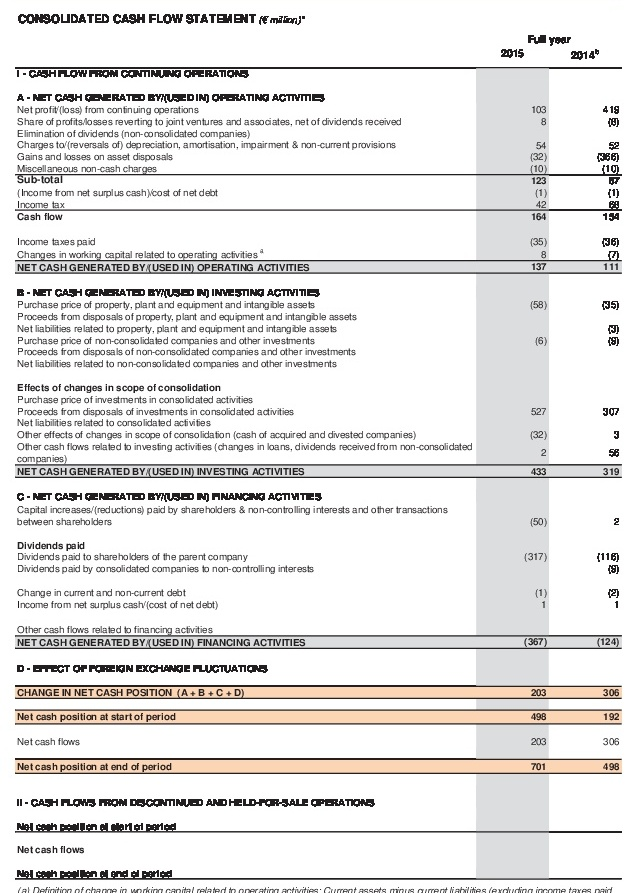table: (0, 0, 644, 893)
